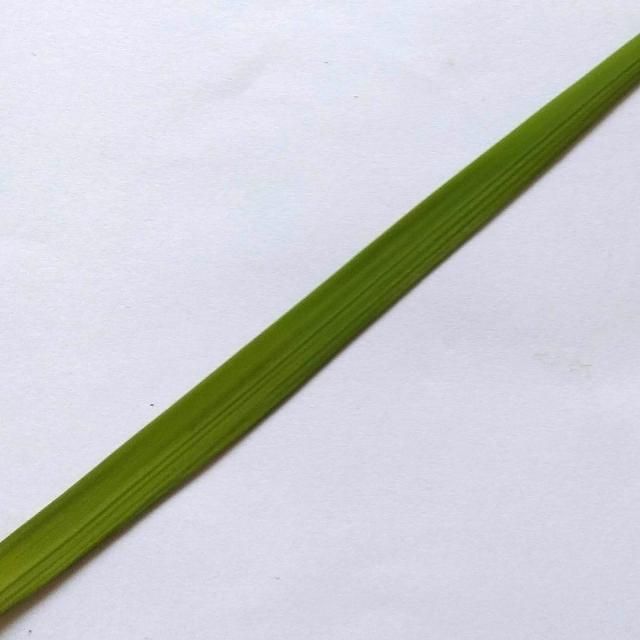healthy: (0, 32, 640, 625)
